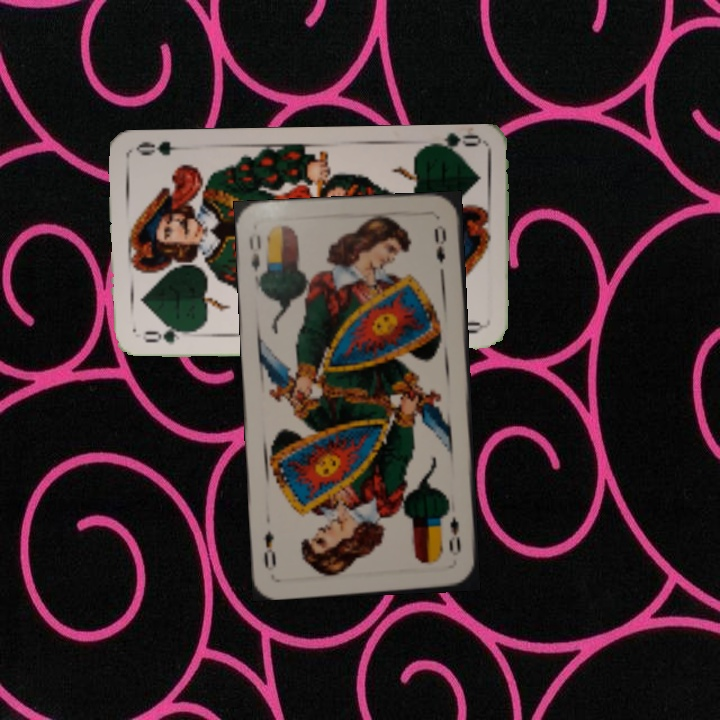EO: (444, 512, 463, 558), (245, 231, 263, 274)
GO: (423, 131, 482, 158), (141, 322, 195, 346)
